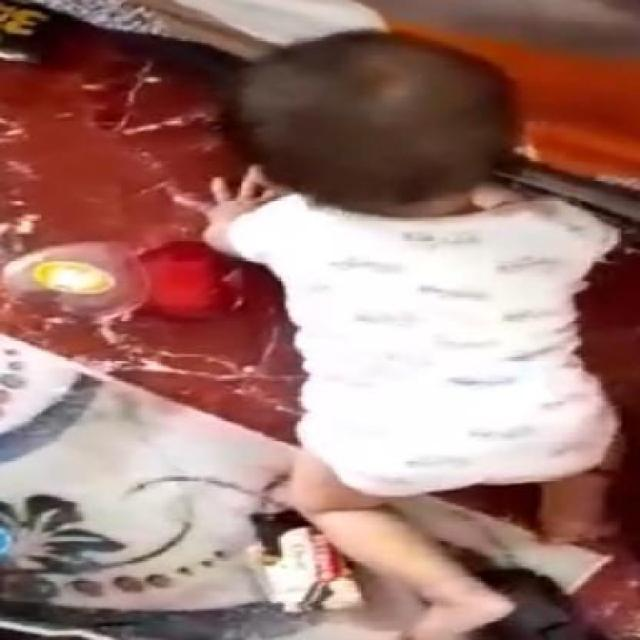baby: (171, 29, 620, 638)
